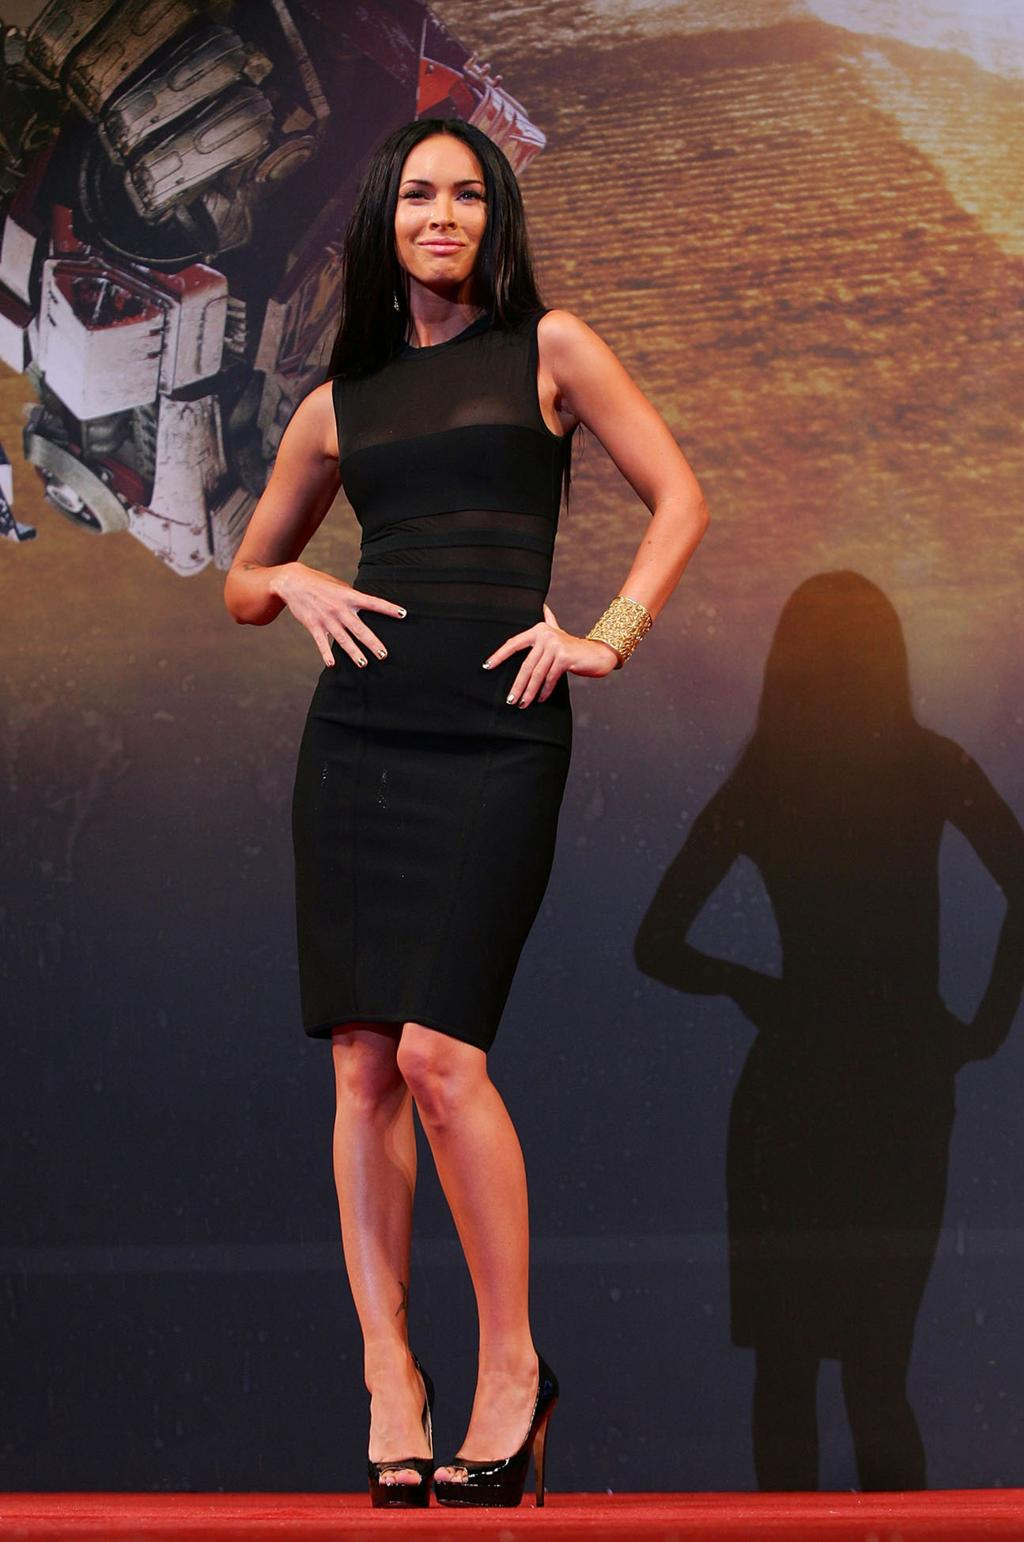face: (389, 139, 494, 287)
